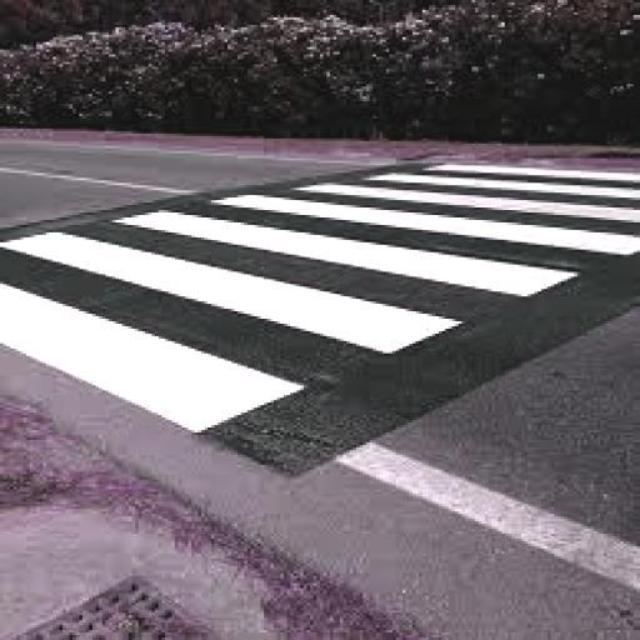sidewalk: (0, 162, 640, 432)
